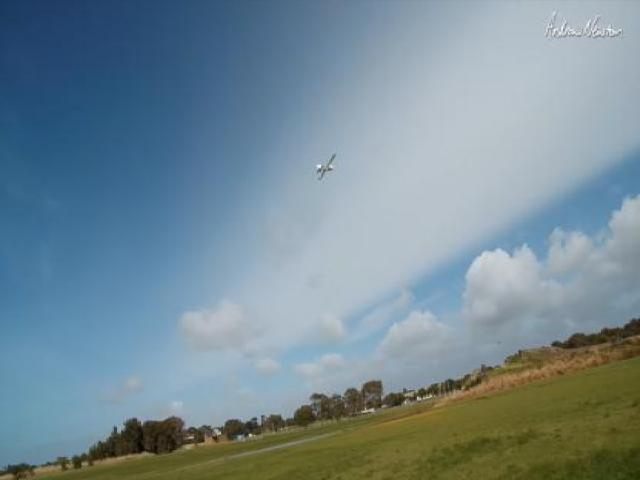uav: (310, 146, 341, 184)
